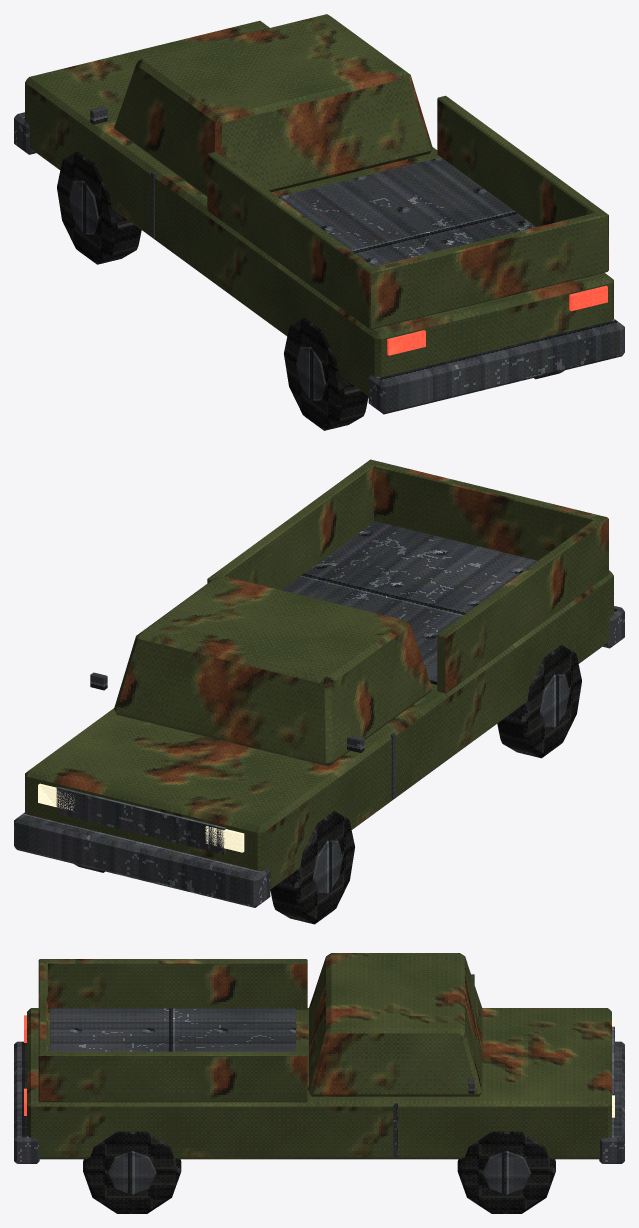
The model's file is vehicle_pickup.glb.
3 views of the same model, one above another, from view 1: azimuth 30°, elevation 25°; view 2: azimuth 150°, elevation 25°; view 3: azimuth 270°, elevation 25° (orthographic). The views are drawn at different scales.
Parts seen in each view (by area): view 1: vehicle_pickup_mesh, Tyre_FL, Tyre_RL, Hub_FL, Hub_RL; view 2: vehicle_pickup_mesh, Tyre_FL, Tyre_RL, Hub_FL, Hub_RL; view 3: vehicle_pickup_mesh, Tyre_FR, Tyre_RR, Hub_FR, Hub_RR.
Boxes of the visible parts, x1=… form: vehicle_pickup_mesh: x1=14, y1=14, x2=624, y2=414; Tyre_FL: x1=57, y1=151, x2=141, y2=264; Tyre_RL: x1=284, y1=317, x2=368, y2=430; Hub_FL: x1=69, y1=180, x2=99, y2=234; Hub_RL: x1=296, y1=347, x2=325, y2=400; vehicle_pickup_mesh: x1=14, y1=459, x2=624, y2=907; Tyre_FL: x1=270, y1=811, x2=354, y2=924; Tyre_RL: x1=497, y1=645, x2=581, y2=758; Hub_FL: x1=313, y1=840, x2=342, y2=894; Hub_RL: x1=540, y1=674, x2=569, y2=727; vehicle_pickup_mesh: x1=14, y1=953, x2=624, y2=1163; Tyre_FR: x1=457, y1=1131, x2=555, y2=1213; Tyre_RR: x1=83, y1=1131, x2=181, y2=1213; Hub_FR: x1=482, y1=1151, x2=530, y2=1194; Hub_RR: x1=108, y1=1151, x2=156, y2=1194.
Size of the model in its own units: 2.21 by 1.66 by 5.22.
6 materials, 6 textured.
